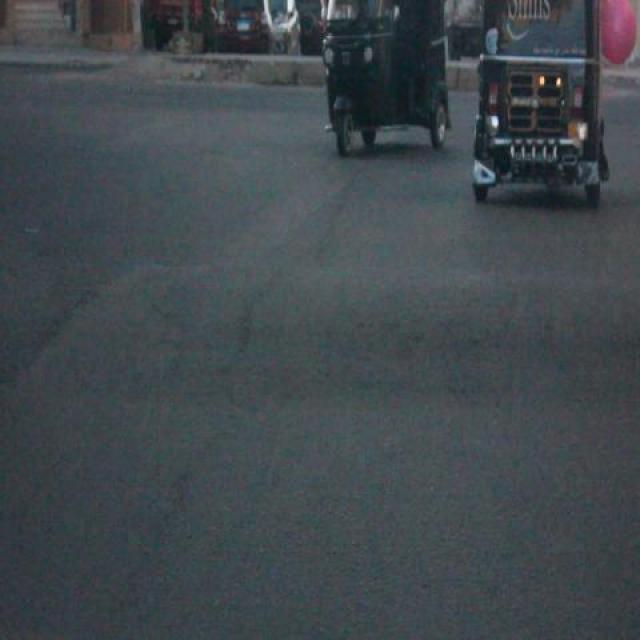Unmarked Bump: (52, 260, 640, 407)
